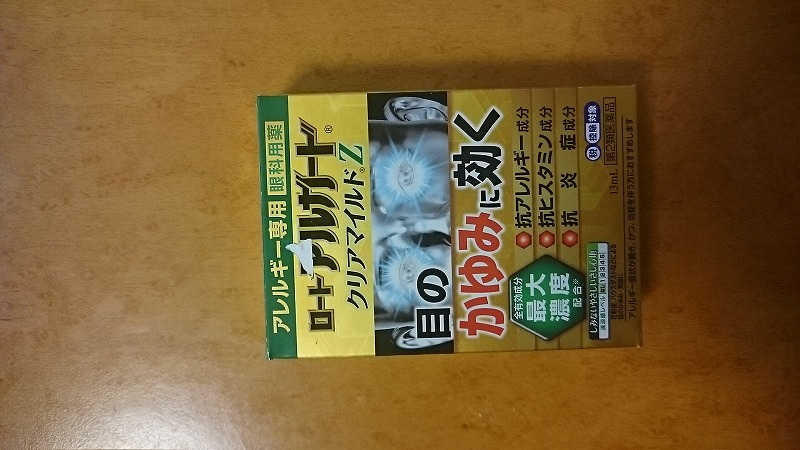C: (245, 85, 658, 359)
